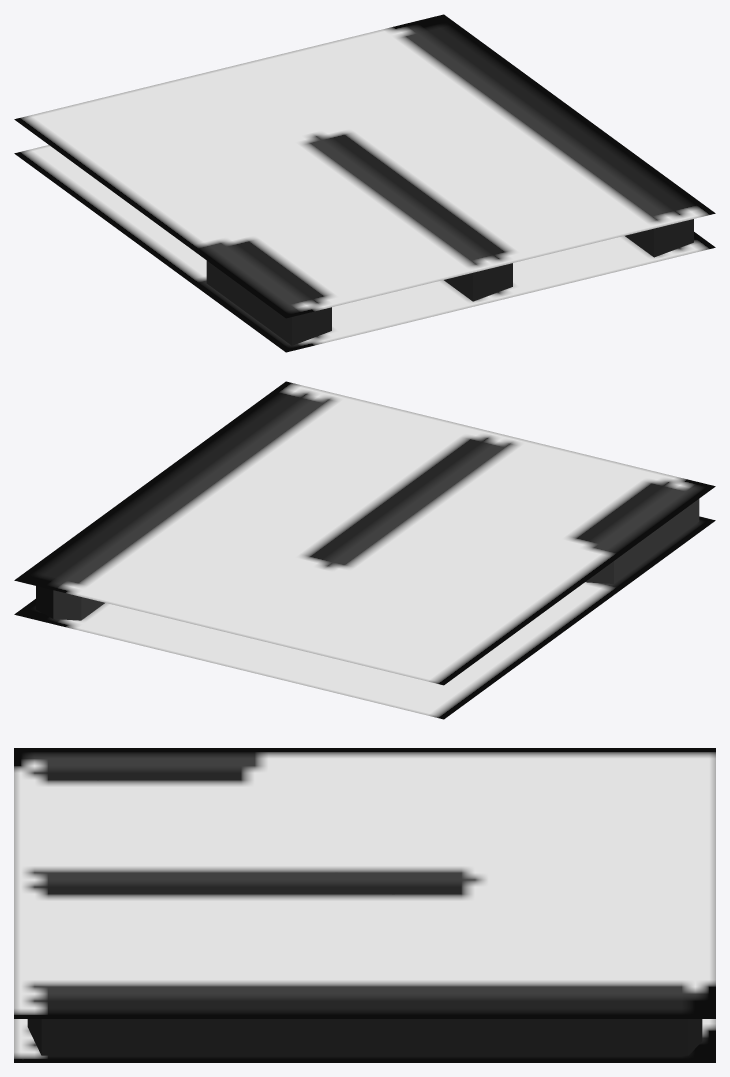
Rendered from pz_native_fixtures_railings_01_18_frame.obj.
The picture shows the model from 3 angles, top to bottom: view 1: azimuth 30°, elevation 25°; view 2: azimuth 150°, elevation 25°; view 3: azimuth 270°, elevation 25°; orthographic projection. The views are drawn at different scales.
Visible parts, largest first — view 1: pz_native_fixtures_railings_01_18_frame; view 2: pz_native_fixtures_railings_01_18_frame; view 3: pz_native_fixtures_railings_01_18_frame.
Boxes of the visible parts, left/top/right/bottom form: pz_native_fixtures_railings_01_18_frame: left=14, top=14, right=715, bottom=352; pz_native_fixtures_railings_01_18_frame: left=14, top=381, right=715, bottom=719; pz_native_fixtures_railings_01_18_frame: left=14, top=748, right=715, bottom=1062.
Bounding box in the file's own units: 0.5938 × 0.045 × 0.6506.
Materials: 1 (1 with a texture image).
